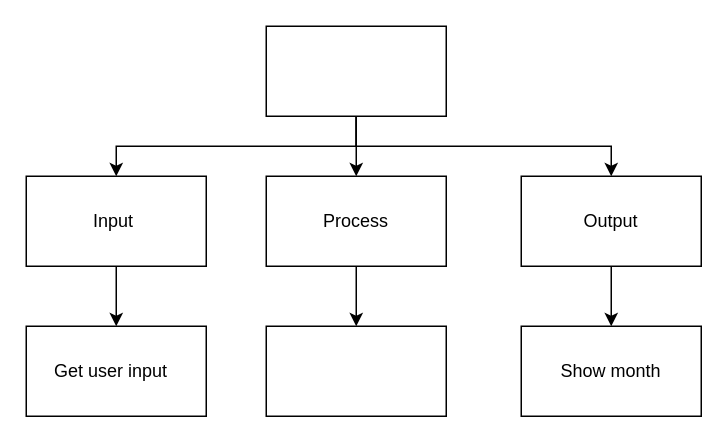
Some shapes in this 728 by 443 pixel diagram are drawn without their labels. Here are the shapes that lost their labels. From the top down, the box of each, then its label:
(265, 25, 446, 116): Month Program
(265, 325, 446, 416): Check which month matches according to the user's number (ie. 4-April)
